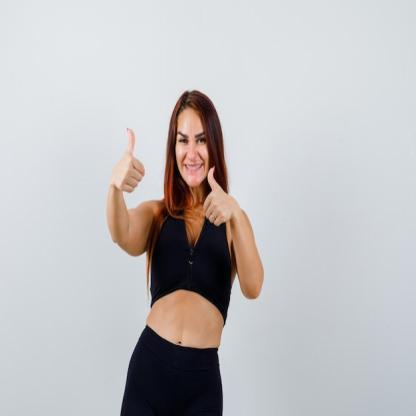thumb_up: (110, 125, 146, 195), (201, 162, 234, 228)
